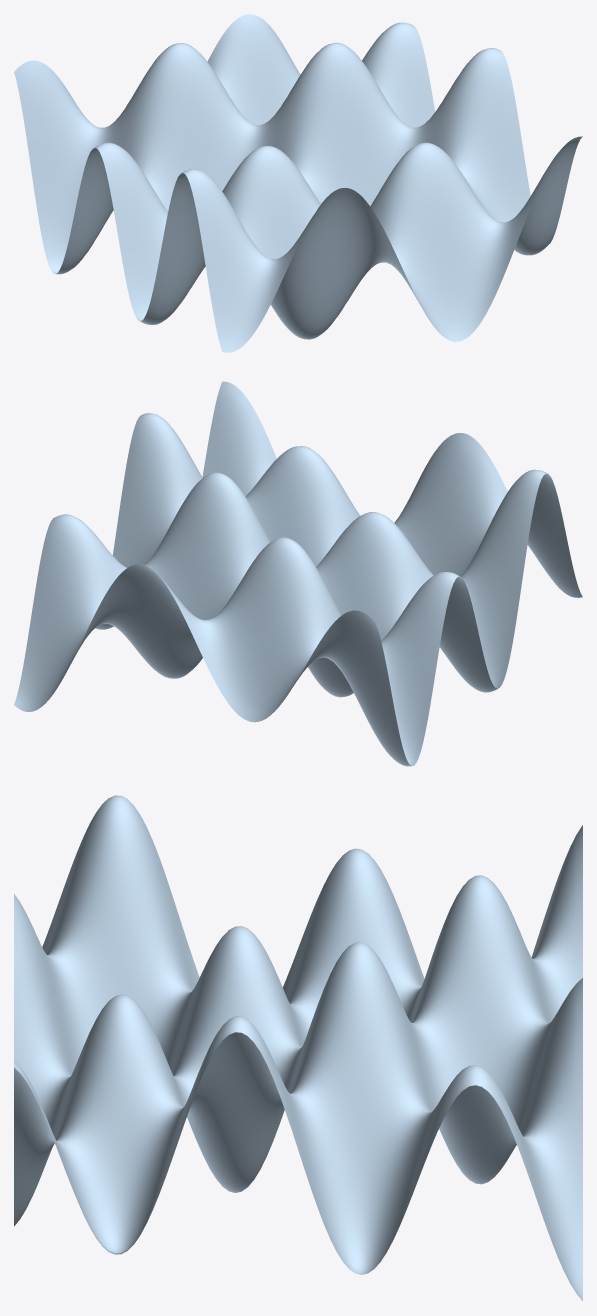
The model's file is ex_lissajous.glb.
The picture shows the model from 3 angles, top to bottom: view 1: azimuth 30°, elevation 25°; view 2: azimuth 150°, elevation 25°; view 3: azimuth 270°, elevation 25°; orthographic projection. The views are drawn at different scales.
Parts seen in each view (by area): view 1: Lissajous; view 2: Lissajous; view 3: Lissajous.
Part boxes in pixels (x1,y1,x2,y2): Lissajous: [14, 14, 582, 352]; Lissajous: [14, 381, 582, 766]; Lissajous: [14, 795, 582, 1300].
Size of the model in its own units: 5 by 2.72 by 5.
